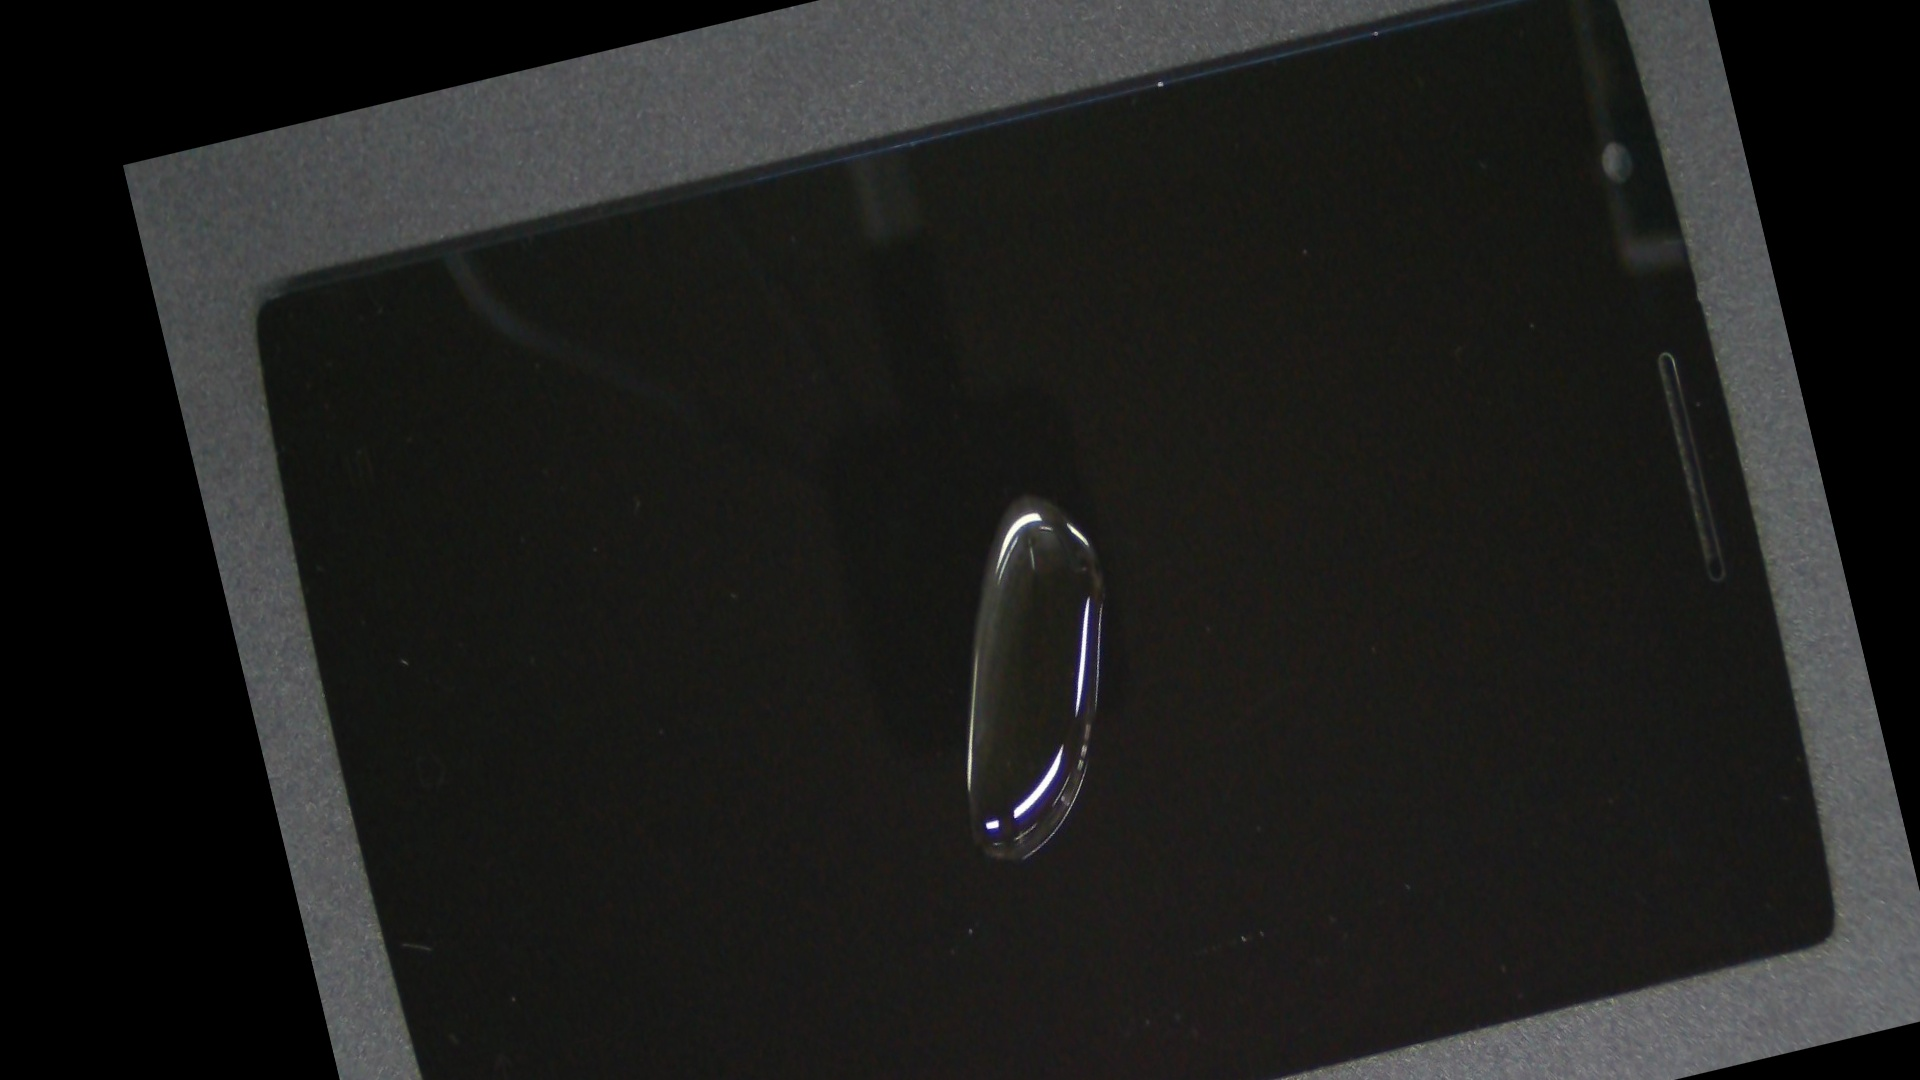oil: (575, 144, 1477, 844)
